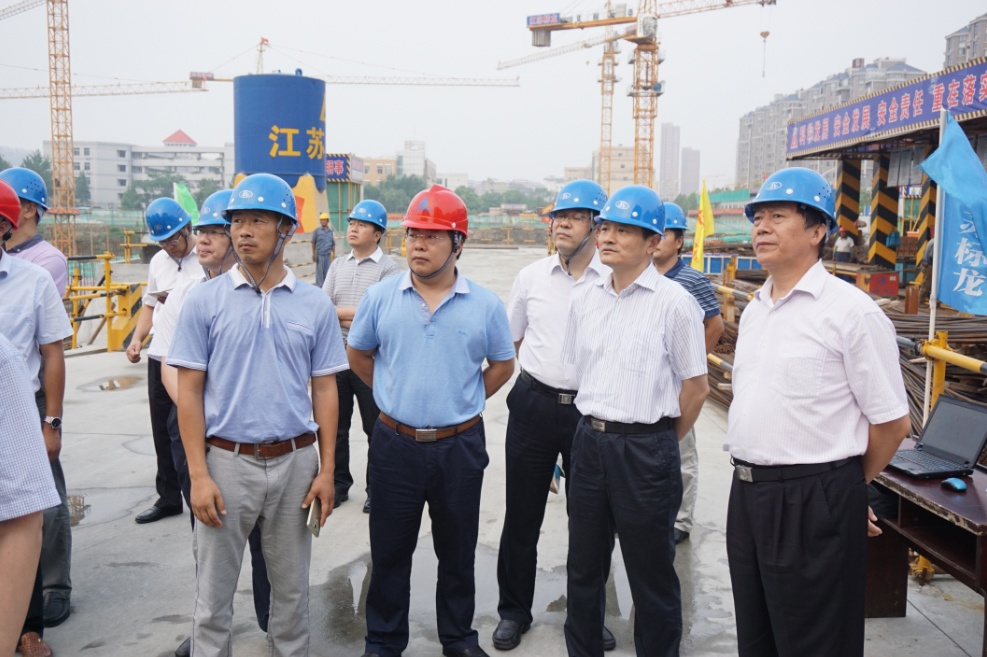blue: (750, 168, 837, 268), (223, 167, 296, 268), (596, 187, 664, 274), (552, 181, 605, 256), (141, 195, 190, 260), (4, 164, 49, 234), (193, 187, 229, 269), (343, 197, 390, 251), (654, 203, 688, 266)
red: (1, 179, 23, 251)
yellow: (317, 212, 330, 227), (839, 225, 846, 237)
